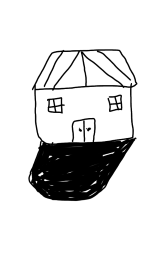closed_window: (103, 92, 128, 112), (43, 95, 66, 116)
door: (69, 112, 99, 144)
roof: (27, 46, 140, 92)
shadow: (24, 133, 139, 204)
wall: (29, 83, 138, 146)
